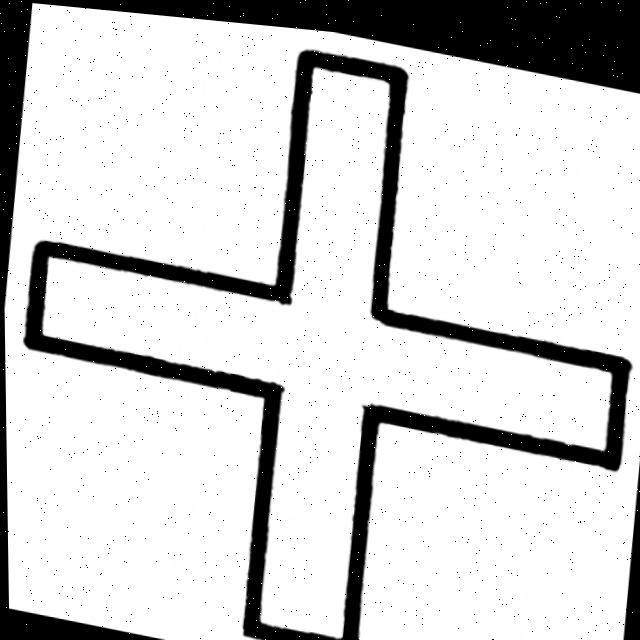cross: (25, 27, 637, 640)
